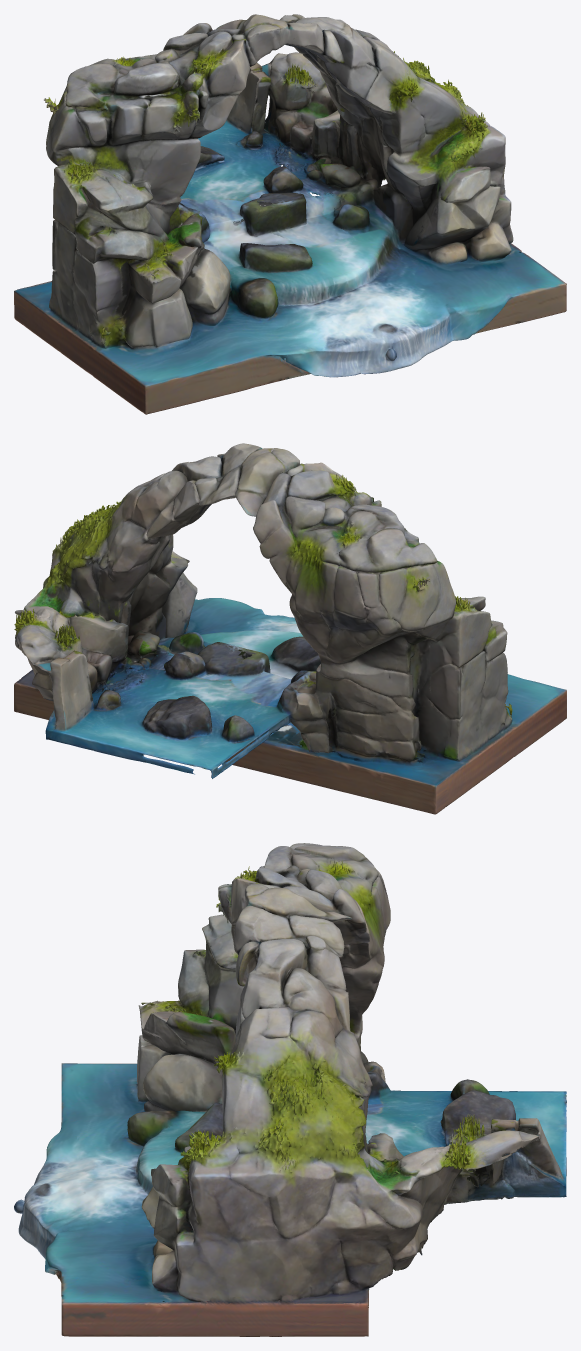
Rendered from Meshy_AI_highly_realistic_dior_1016212332_texture.fbx.
The picture shows the model from 3 angles, top to bottom: view 1: azimuth 30°, elevation 25°; view 2: azimuth 150°, elevation 25°; view 3: azimuth 270°, elevation 25°; orthographic projection. The views are drawn at different scales.
Visible parts, largest first — view 1: Mesh_0; view 2: Mesh_0; view 3: Mesh_0.
Part boxes in pixels (bbox=[...]): Mesh_0: bbox=[14, 14, 566, 414]; Mesh_0: bbox=[14, 443, 566, 814]; Mesh_0: bbox=[14, 843, 566, 1336].
Size of the model in its own units: 200 by 127 by 195.
1 material, 1 textured.
